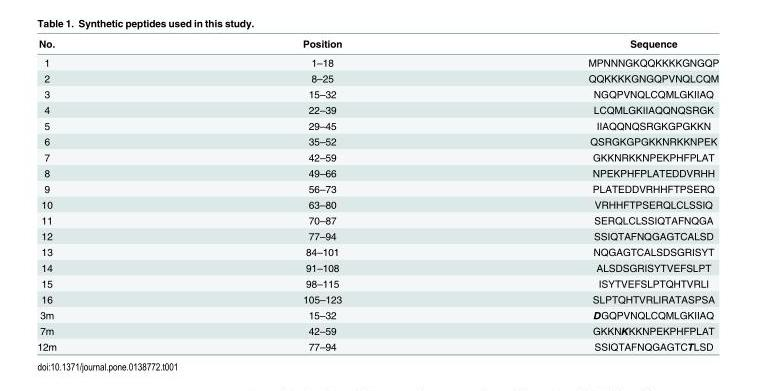table: (36, 37, 718, 352)
table column: (178, 37, 464, 352), (464, 37, 718, 352), (36, 37, 178, 352)
table column header: (36, 37, 718, 52)
table row: (36, 52, 718, 70), (36, 85, 718, 101), (36, 101, 718, 117), (36, 117, 718, 133), (36, 148, 718, 164), (36, 164, 718, 180), (36, 180, 718, 196), (36, 196, 718, 212), (36, 227, 718, 243), (36, 243, 718, 259), (36, 259, 718, 275), (36, 290, 718, 306), (36, 306, 718, 322), (36, 322, 718, 338), (36, 37, 718, 52), (36, 70, 718, 85), (36, 133, 718, 148), (36, 212, 718, 227), (36, 275, 718, 290), (36, 338, 718, 352)
